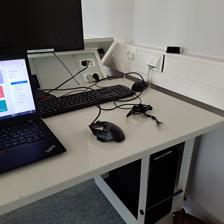mouse: (89, 120, 125, 142)
